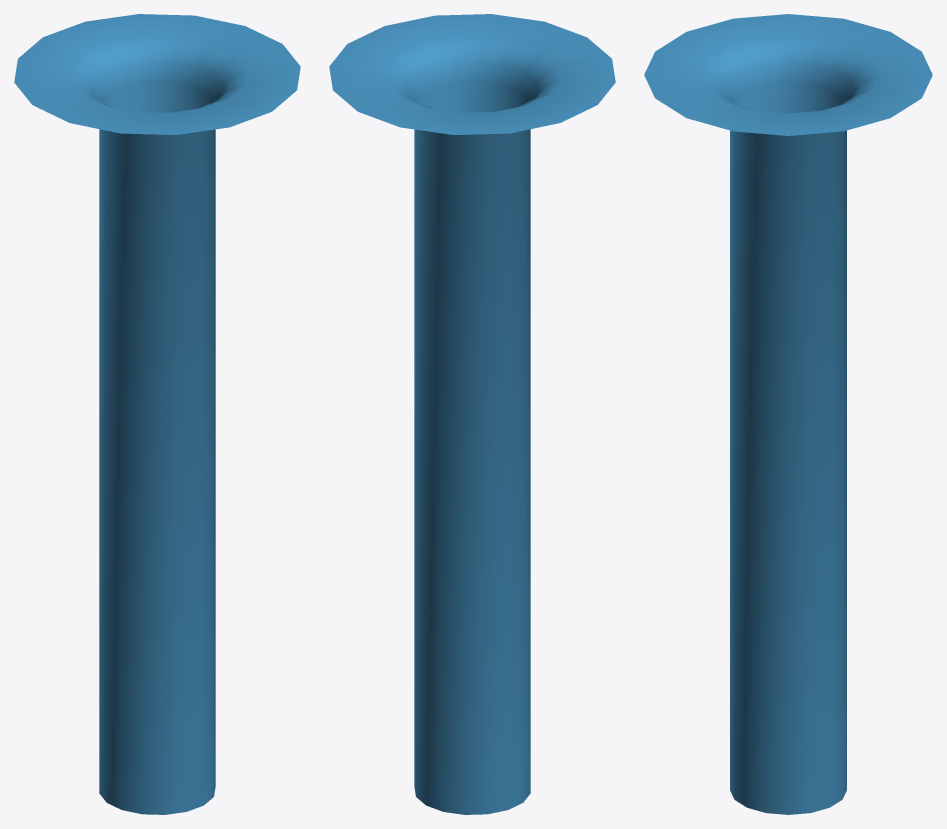
Rendered from WaterPipe.fbx.
The picture shows the model from 3 angles, left to right: view 1: azimuth 30°, elevation 25°; view 2: azimuth 150°, elevation 25°; view 3: azimuth 270°, elevation 25°; orthographic projection.
Visible parts, largest first — view 1: WaterPipe; view 2: WaterPipe; view 3: WaterPipe.
Boxes of the visible parts, x1,y1,x2,y2 form: WaterPipe: [14, 14, 300, 814]; WaterPipe: [329, 14, 615, 814]; WaterPipe: [644, 14, 932, 814].
Bounding box in the file's own units: 94.6 × 259 × 94.6.
